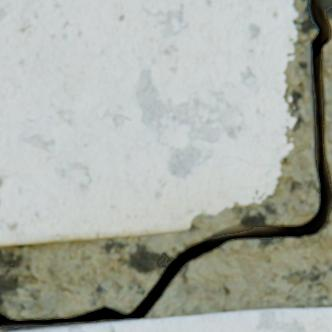brick: (0, 0, 296, 246), (14, 308, 331, 331)
crack: (0, 0, 331, 331)
